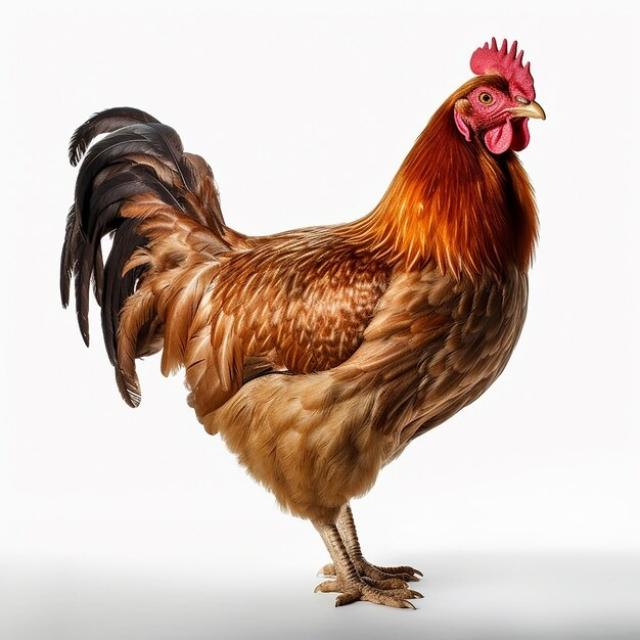Chicken: (59, 39, 548, 611)
